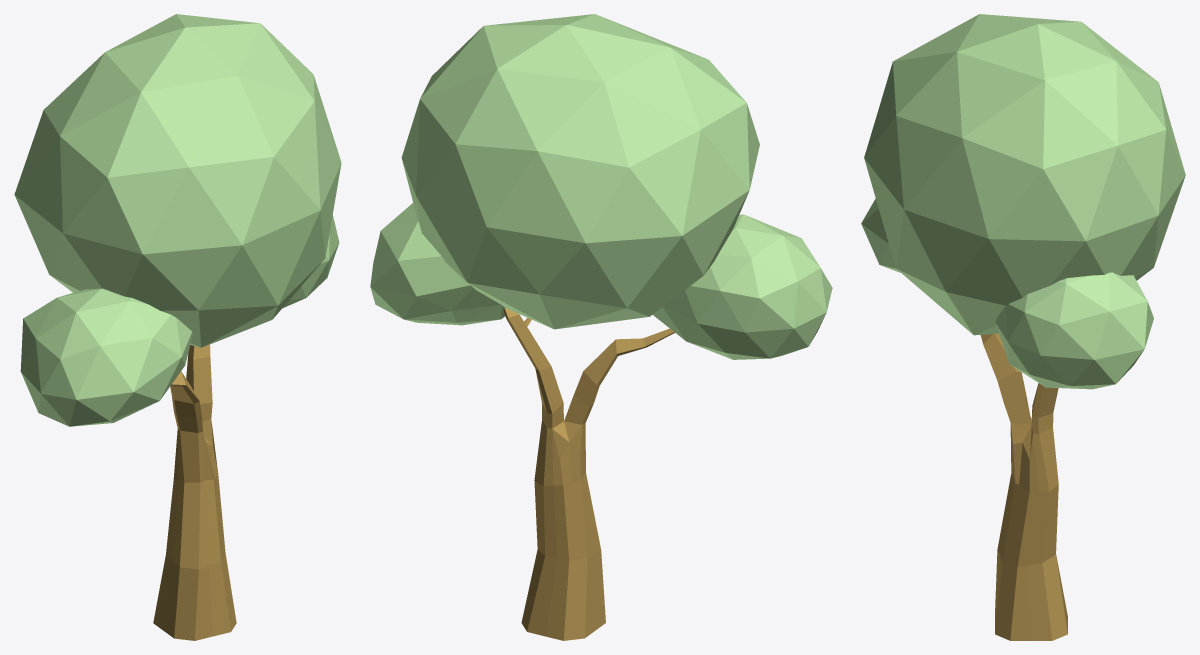
File: Tree.glb
3 renders of one model, left to right at view 1: azimuth 30°, elevation 25°; view 2: azimuth 150°, elevation 25°; view 3: azimuth 270°, elevation 25°, orthographic.
Parts seen in each view (by area): view 1: Tree; view 2: Tree; view 3: Tree.
Part boxes in pixels (box(x1,y1,x2,y2)): Tree: box(14, 14, 341, 640); Tree: box(370, 14, 832, 640); Tree: box(861, 14, 1185, 640).
Size of the model in its own units: 5.77 by 9.02 by 4.44.
